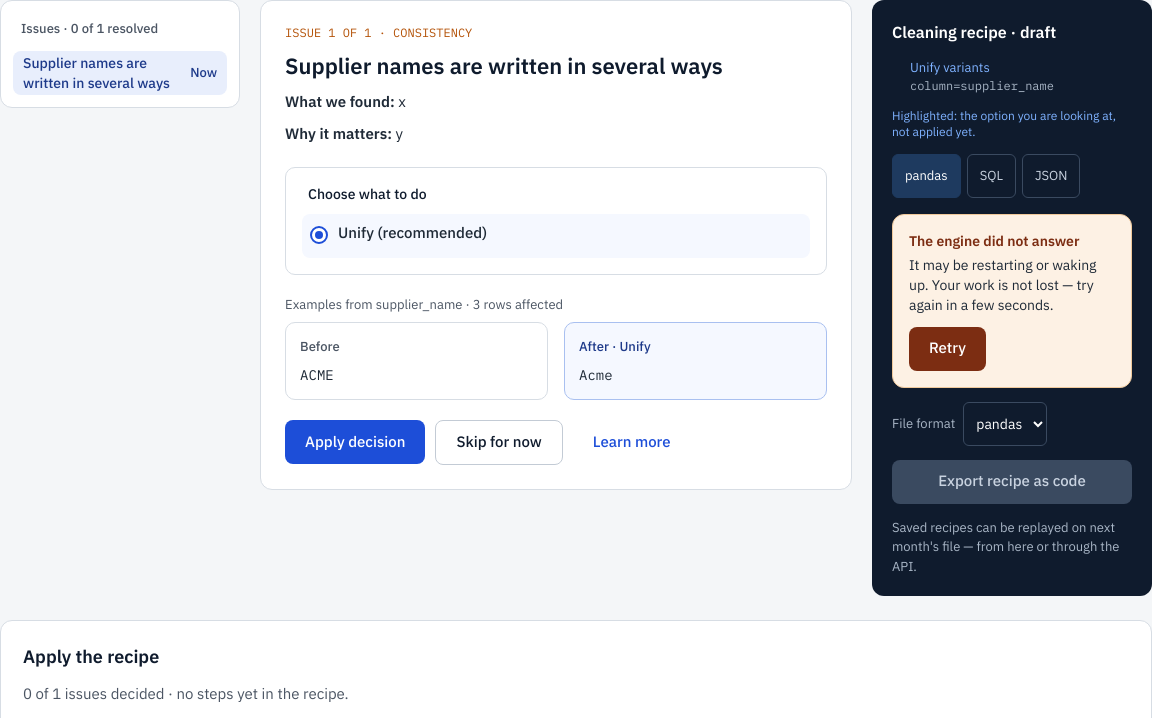
Test case: Cleaning studio › a failed recipe preview (the production 502) is shown with Retry instead of being swallowed
This screenshot has width=1152, height=718.
Expected: the message shows "The engine did not answer", [909,232,1079,250]
What coordinates should you click on to do the following:
click the button "Retry"
I would click on:
 (947, 348)
Its box is [909,326,986,370].
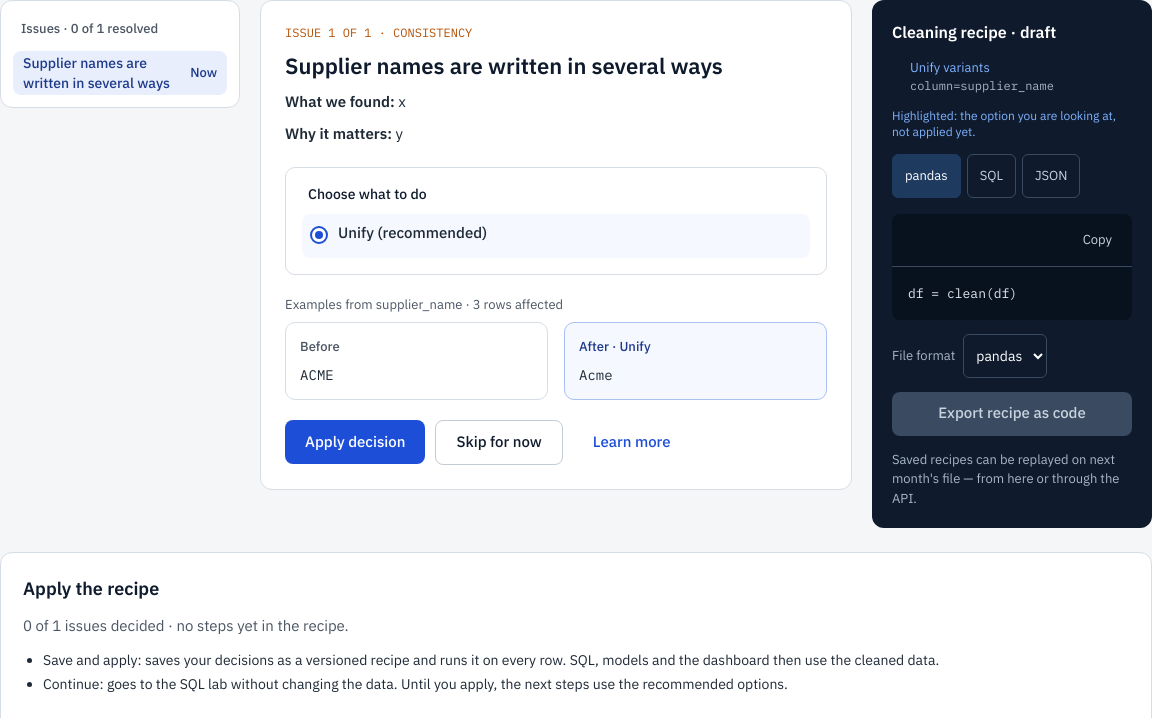
Now the message is gone
